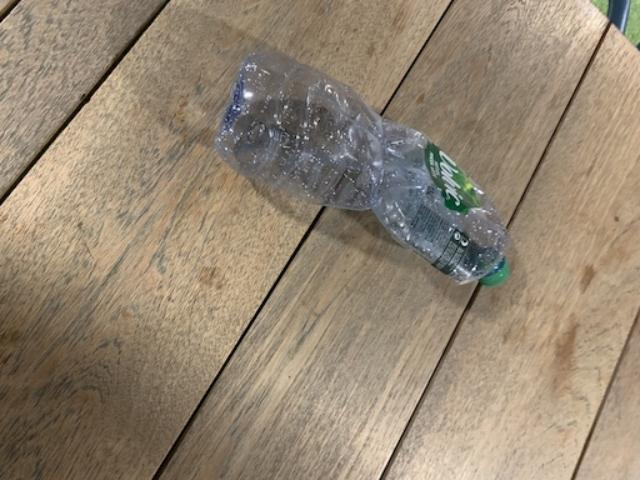plastic: (215, 50, 508, 282)
